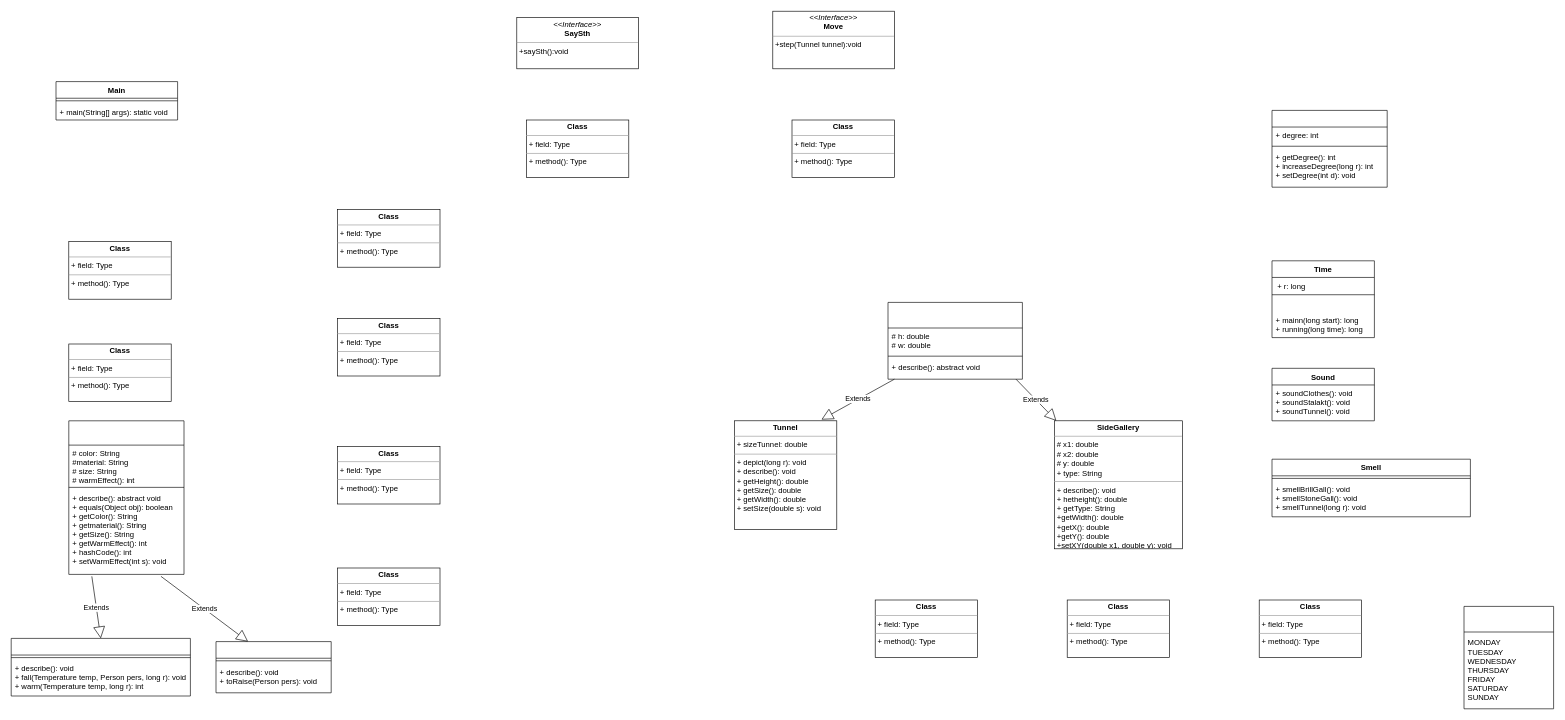
Some shapes in this 1565 by 720 pixel diagram are drawn without their labels. Here are the shapes that lost their labels. From the top down, the box of each, then its label:
(1271, 110, 1387, 187): Temperature
(887, 302, 1022, 379): Abstract Class Location
(68, 420, 184, 574): Abstract Class Clothes
(11, 638, 190, 696): Coat
(215, 641, 331, 693): CutCoat
(1463, 606, 1554, 709): <<enumeration>> DayOfWeek
